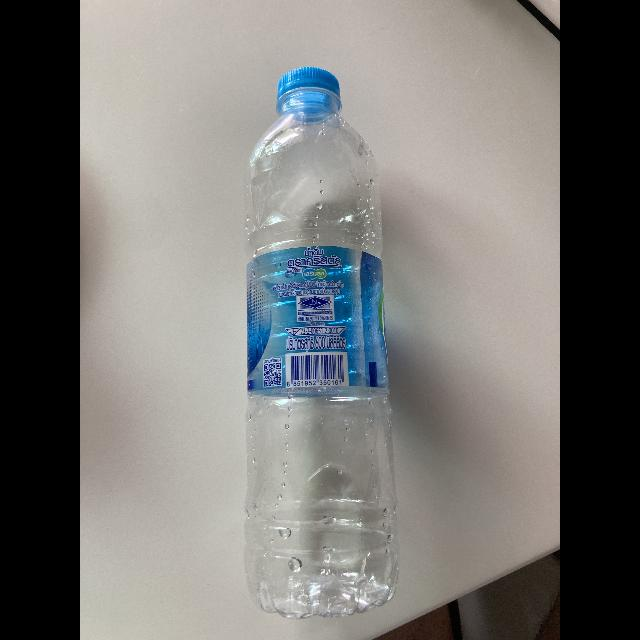plastic_bottle: (238, 59, 400, 619)
plastic_bottle_cap: (276, 67, 344, 125)
